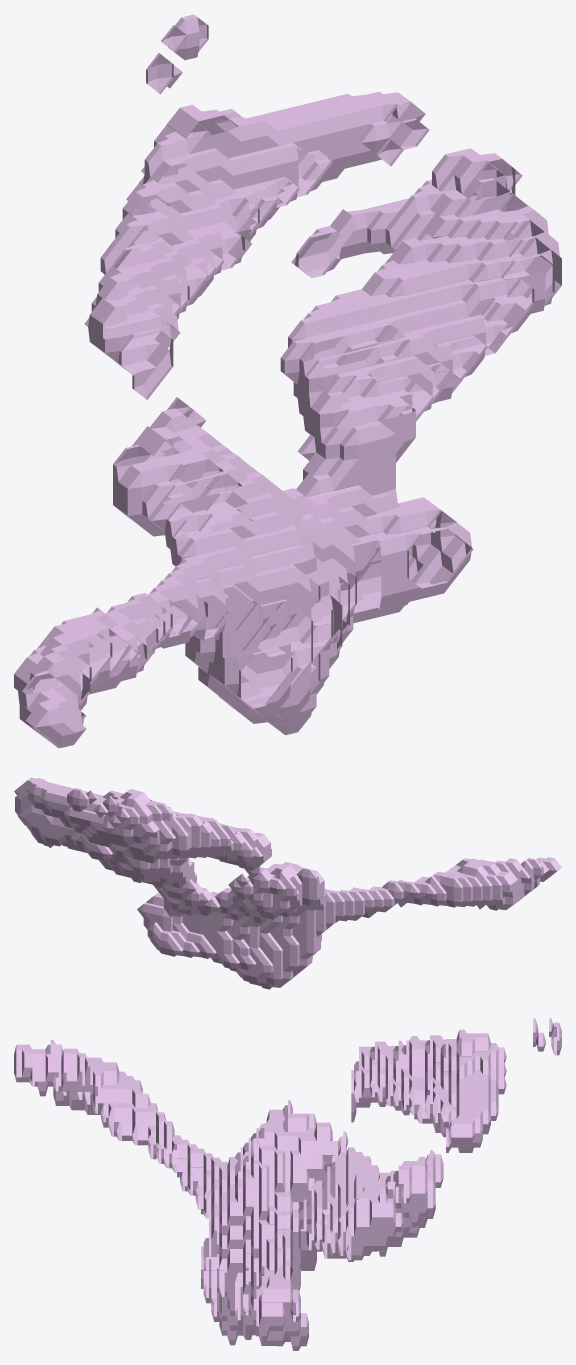
File: SVV_FLPL.gltf
3 renders of one model, top to bottom at view 1: azimuth 30°, elevation 25°; view 2: azimuth 150°, elevation 25°; view 3: azimuth 270°, elevation 25°, orthographic. The views are drawn at different scales.
Visible parts, largest first — view 1: FLPL; view 2: FLPL; view 3: FLPL.
Part boxes in pixels (x1,y1,x2,y2): FLPL: (14, 14, 561, 748); FLPL: (14, 777, 561, 989); FLPL: (14, 1018, 561, 1350).
Size of the model in its own units: 30219 by 19457 by 26632.
